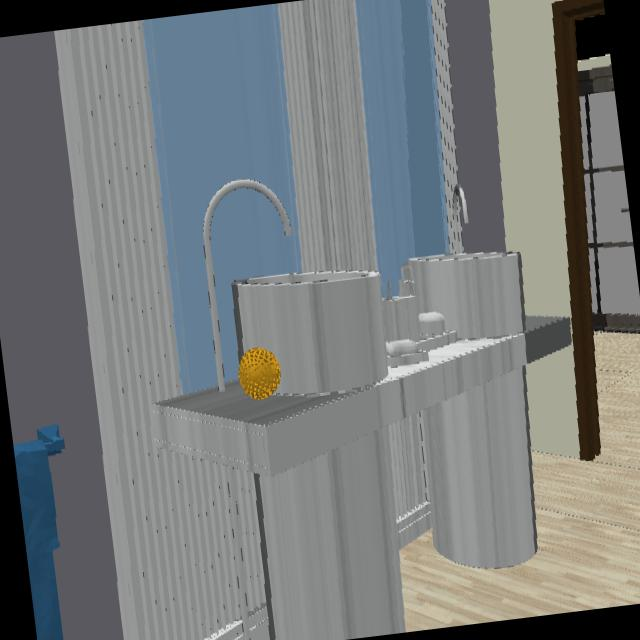washbasin: (234, 272, 389, 396), (202, 180, 291, 391), (403, 252, 522, 340)
